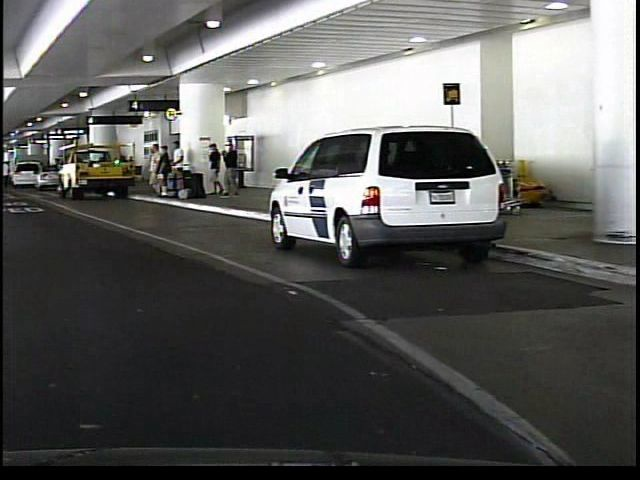person: (218, 140, 235, 199), (140, 141, 155, 198)
